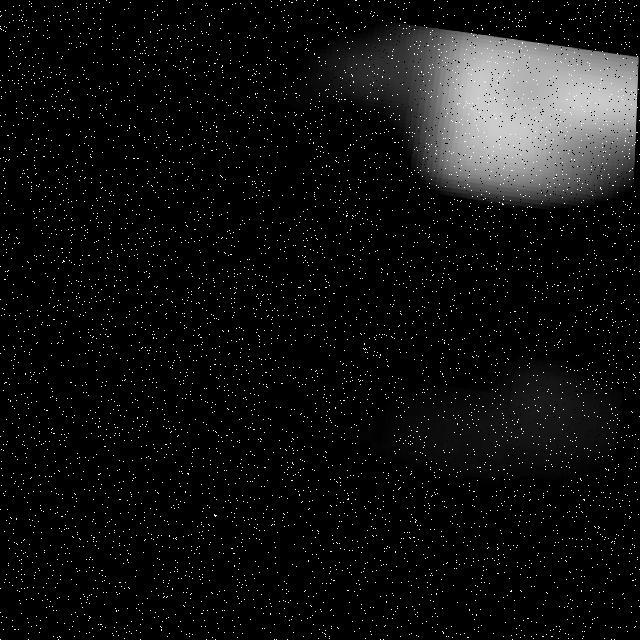person: (309, 10, 640, 222)
